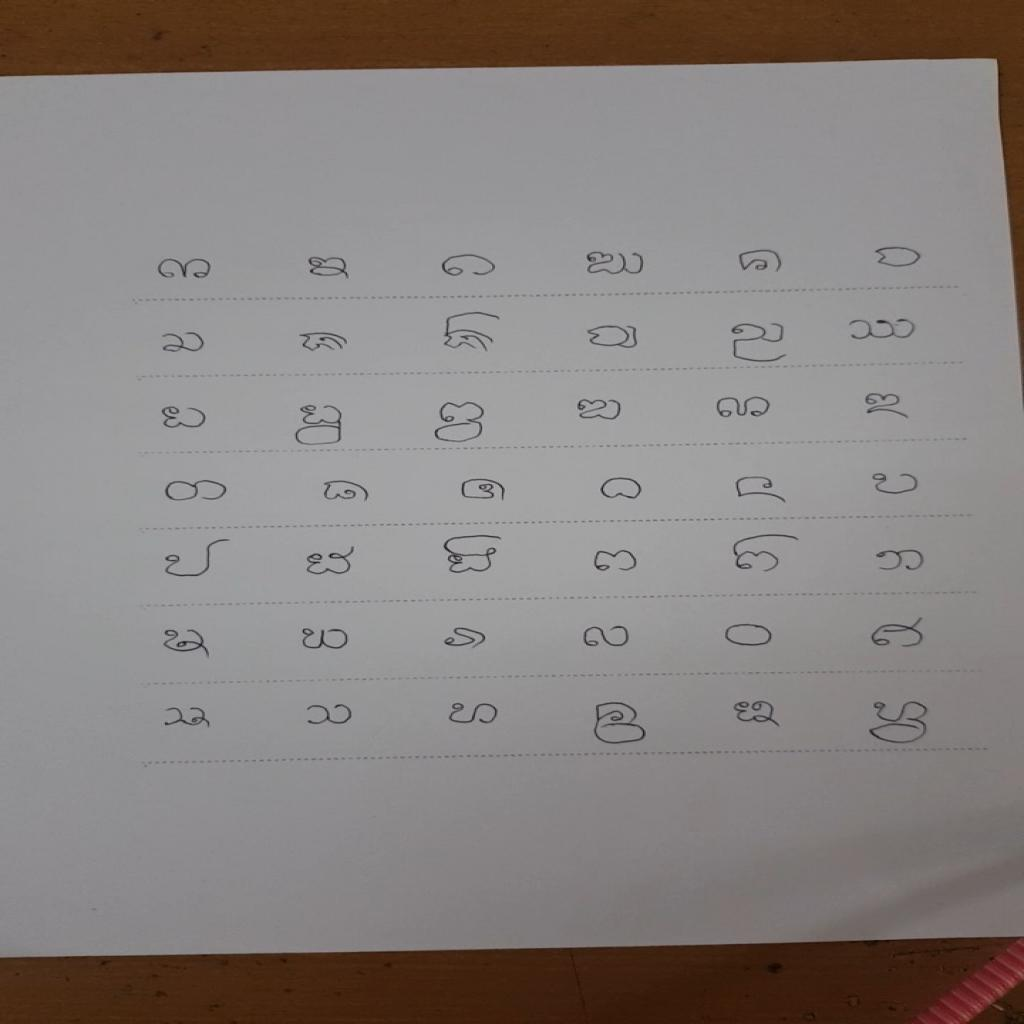LN001: (149, 255, 220, 284)
LN002: (305, 255, 354, 281)
LN003: (438, 254, 500, 280)
LN004: (581, 250, 649, 278)
LN005: (735, 248, 787, 276)
LN006: (872, 245, 926, 271)
LN007: (158, 330, 209, 357)
LN008: (295, 331, 352, 356)
LN009: (438, 310, 505, 357)
LN010: (582, 323, 644, 352)
LN011: (727, 320, 793, 366)
LN012: (844, 317, 921, 343)
LN013: (157, 405, 211, 432)
LN014: (290, 403, 347, 449)
LN015: (430, 401, 490, 445)
LN016: (573, 397, 626, 424)
LN017: (712, 394, 774, 421)
LN018: (856, 390, 915, 421)
LN019: (161, 478, 234, 506)
LN020: (319, 479, 373, 505)
LN021: (455, 476, 510, 503)
LN022: (595, 476, 649, 503)
LN023: (726, 473, 791, 504)
LN024: (867, 470, 926, 497)
LN025: (153, 537, 234, 583)
LN026: (301, 544, 360, 580)
LN027: (438, 533, 506, 580)
LN028: (589, 548, 642, 576)
LN029: (727, 532, 805, 576)
LN030: (871, 547, 930, 575)
LN031: (156, 623, 213, 661)
LN032: (293, 625, 357, 654)
LN033: (438, 625, 495, 654)
LN034: (576, 622, 639, 653)
LN035: (719, 621, 781, 650)
LN036: (866, 616, 929, 652)
LN037: (159, 704, 217, 733)
LN038: (299, 701, 362, 730)
LN039: (443, 700, 504, 730)
LN040: (590, 698, 650, 749)
LN041: (729, 696, 784, 730)
LN042: (865, 700, 934, 747)
